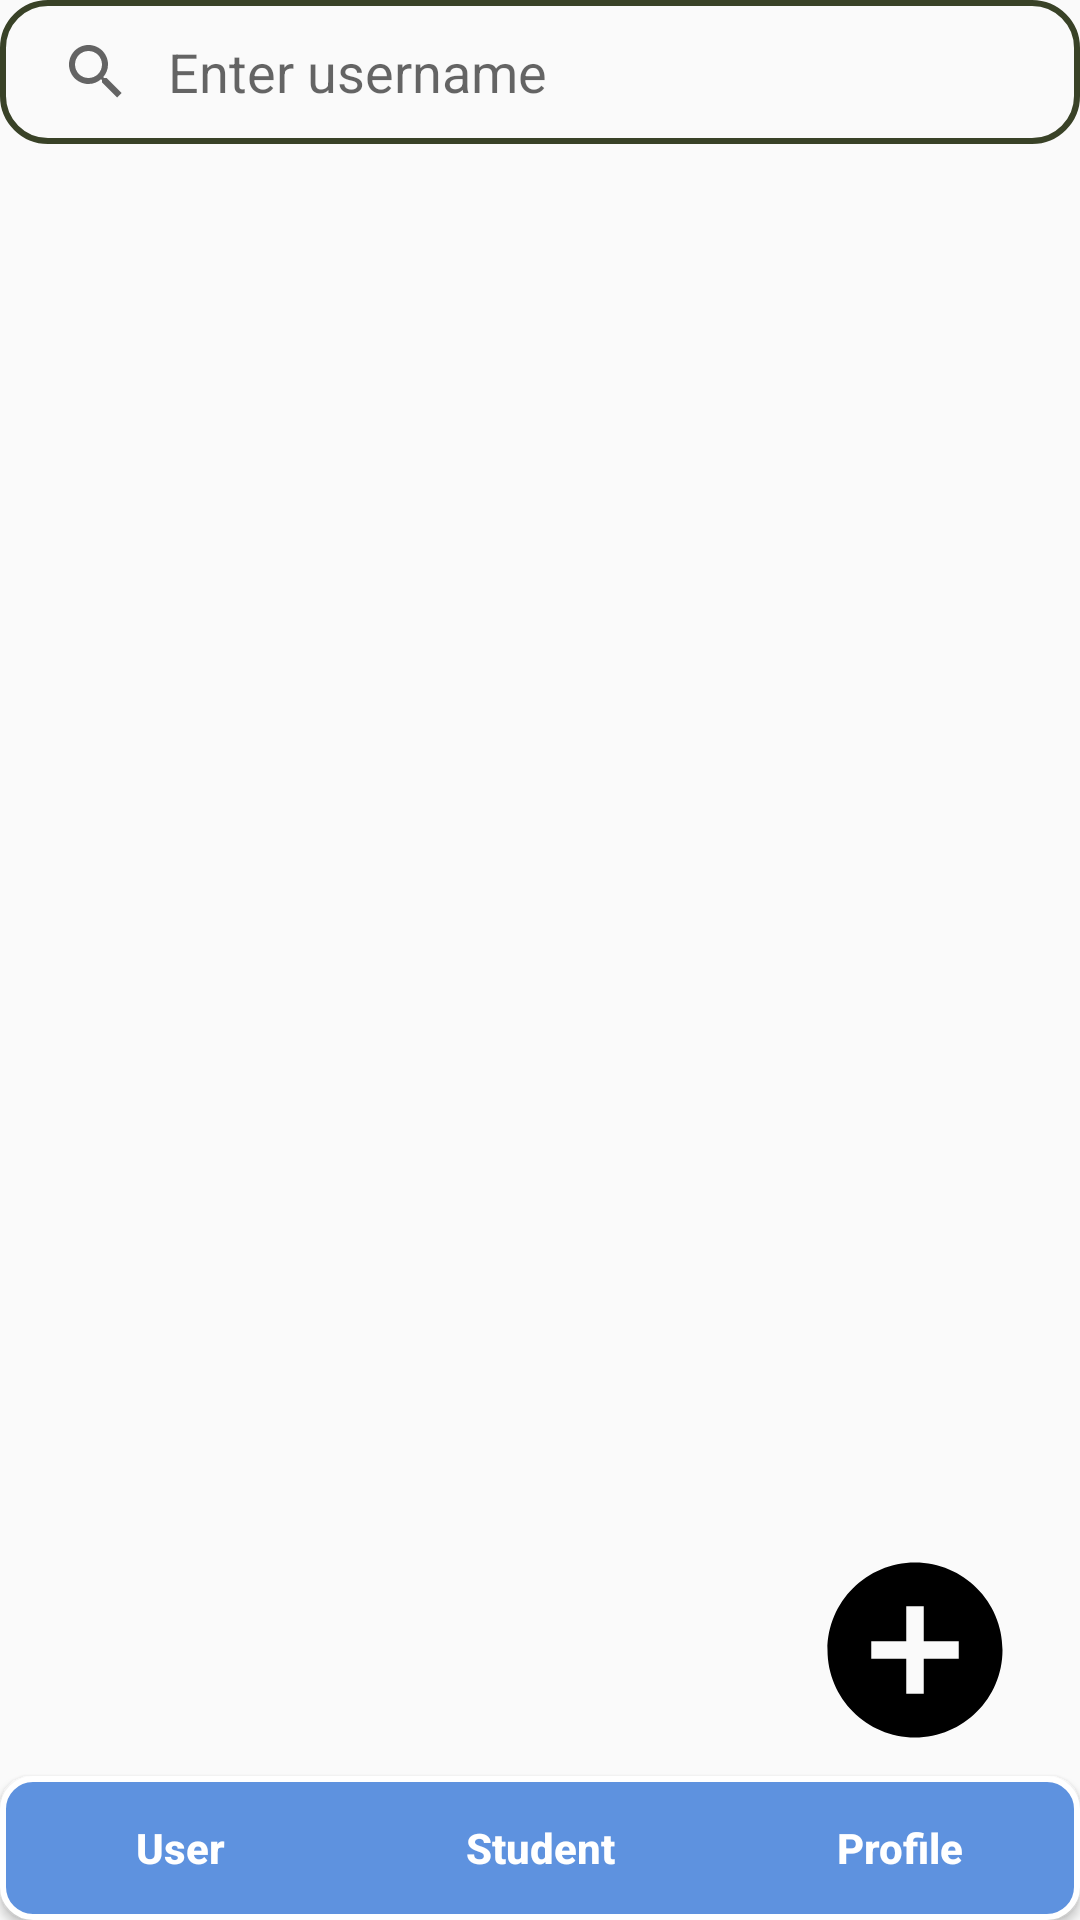

Where to tap for icons on this 1080×1920 app screen, as (x,y):
add circle: (915,1650)
